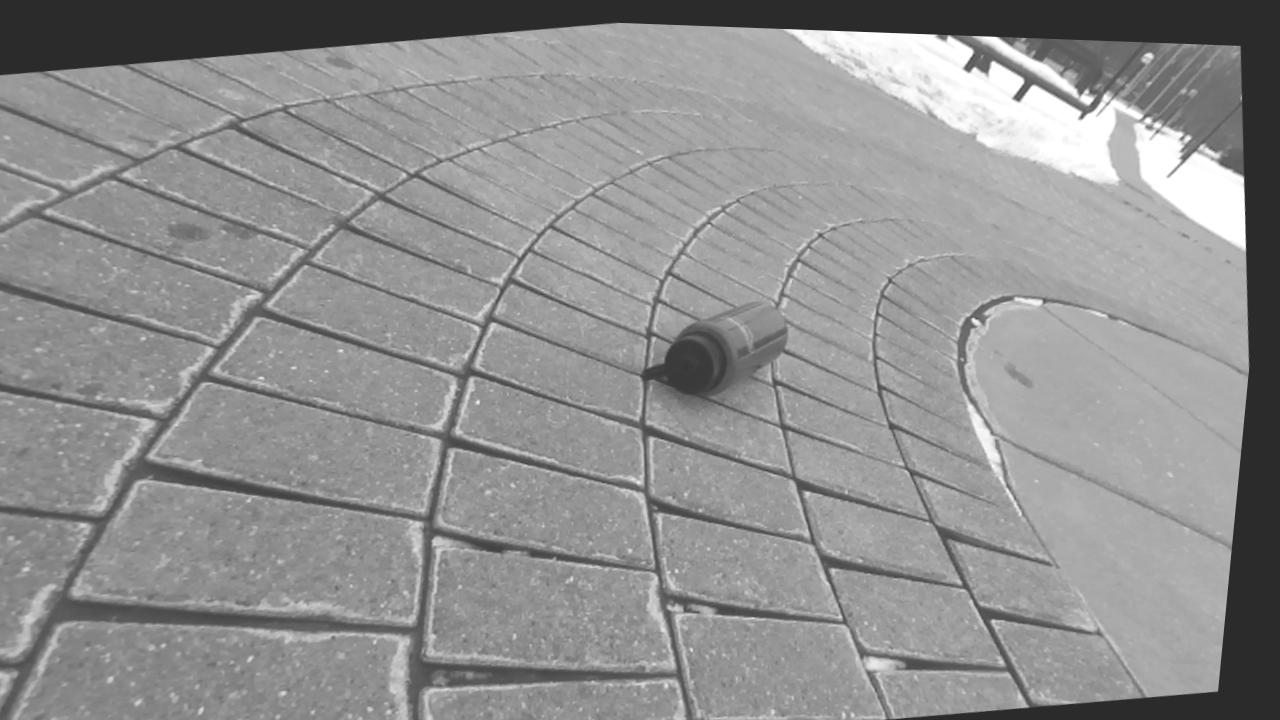bottle: (643, 302, 787, 396)
